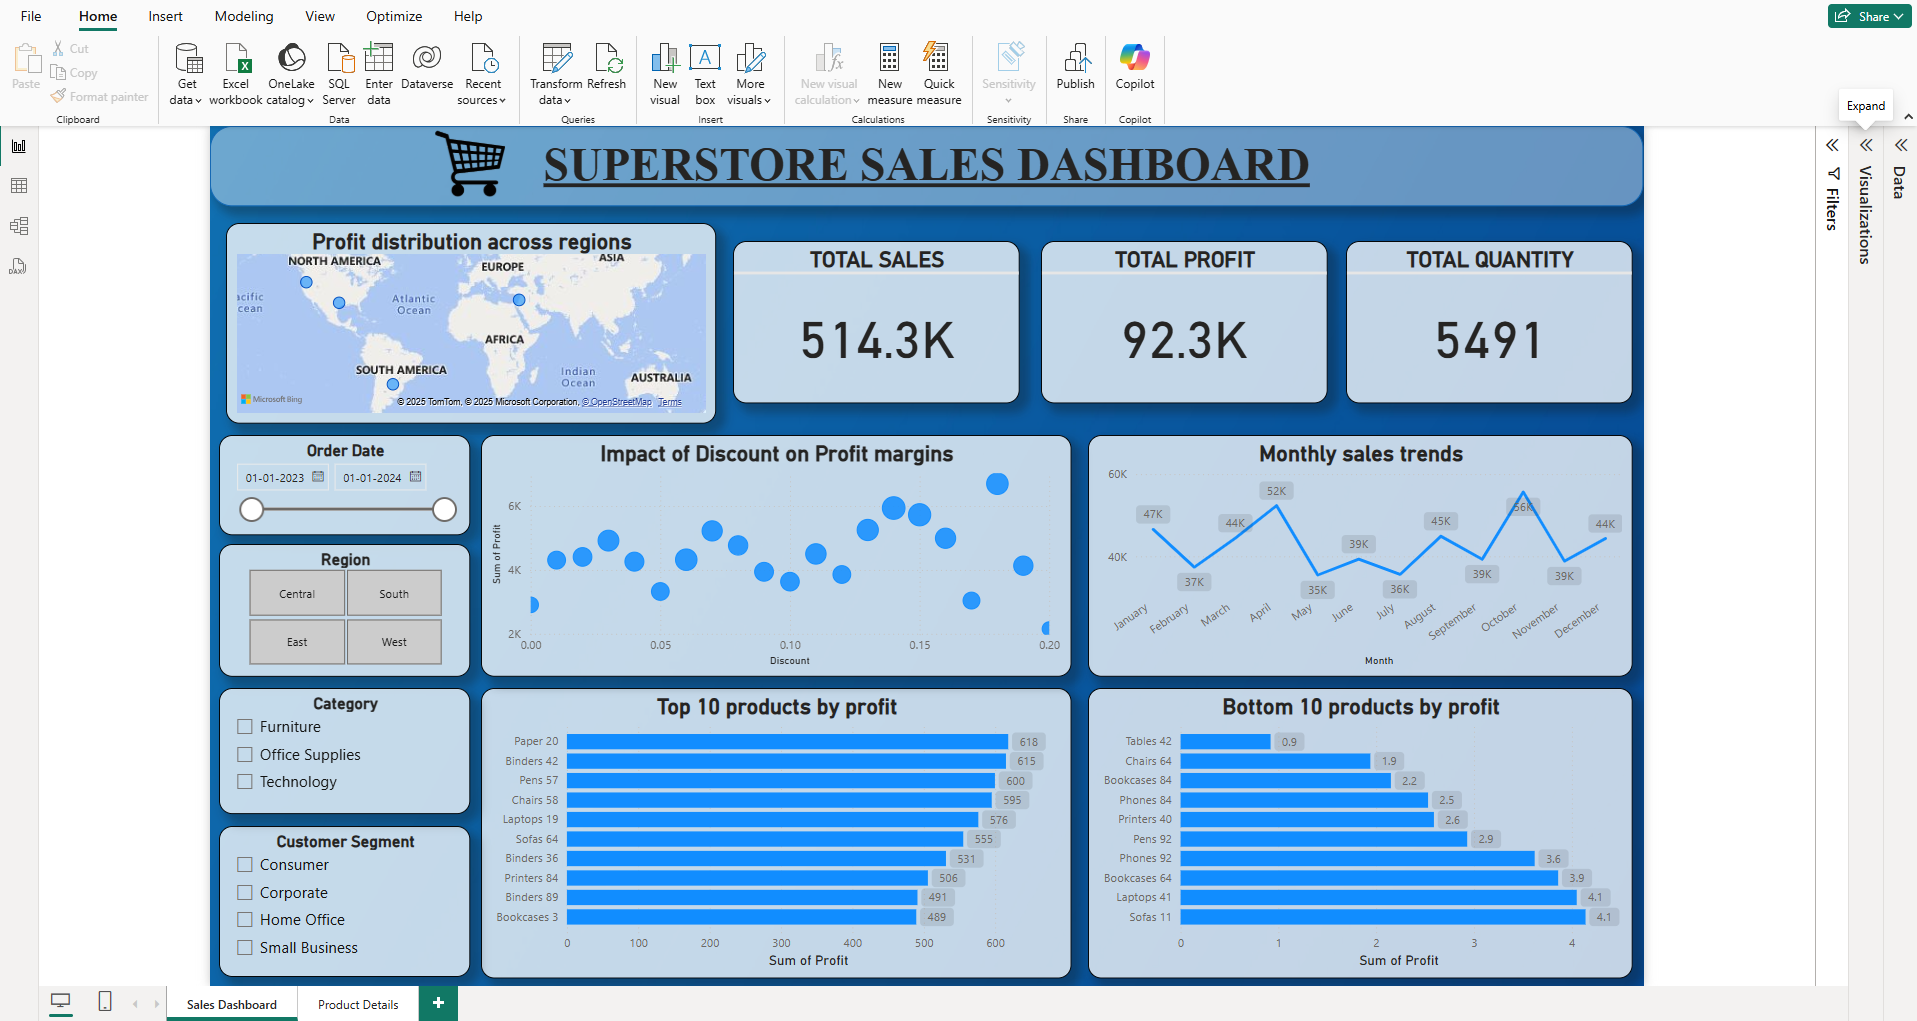

The page's visual inventory and layout, read from the dashboard file:
{"tool":"powerbi","page":{"name":"Sales Dashboard","canvas":[1500,900],"ordinal":0},"visuals":[{"type":"card","title":"TOTAL SALES","fields":{"Values":["Sum(Superstore Sales.Sales Amount)"]},"box":[547.1,120.8,299.8,169.8],"z":0},{"type":"card","title":"TOTAL PROFIT ","fields":{"Values":["Sum(Superstore Sales.Profit)"]},"box":[869.7,120.8,299.8,169.8],"z":1000},{"type":"card","title":"TOTAL QUANTITY","fields":{"Values":["Sum(Superstore Sales.Quantity)"]},"box":[1188.8,120.8,299.8,169.8],"z":2000},{"type":"lineChart","title":"Monthly sales trends","fields":{"Category":["Superstore Sales.Order Date.Variation.Date Hierarchy.Month"],"Y":["Sum(Superstore Sales.Sales Amount)"]},"box":[918.7,323.7,569.9,253],"z":3000},{"type":"map","title":"Profit distribution across regions","fields":{"Category":["Superstore Sales.Region"],"Size":["Sum(Superstore Sales.Profit)"]},"box":[17.1,101.4,512.9,209.7],"z":4000},{"type":"clusteredBarChart","title":"Top 10 products by profit","fields":{"Category":["Superstore Sales.Product Name"],"Y":["Sum(Superstore Sales.Profit)"]},"box":[283.8,588.1,617.8,304.3],"z":5000},{"type":"clusteredBarChart","title":"Bottom 10 products by profit","fields":{"Category":["Superstore Sales.Product Name"],"Y":["Sum(Superstore Sales.Profit)"]},"box":[918.7,588.1,569.9,304.3],"z":6000},{"type":"slicer","title":"Order Date","fields":{"Values":["Superstore Sales.Order Date"]},"box":[9.1,323.7,263.3,104.9],"z":7000},{"type":"slicer","title":"Region","fields":{"Values":["Superstore Sales.Region"]},"box":[9.1,437.7,263.3,139.1],"z":8000},{"type":"slicer","title":"Customer Segment","fields":{"Values":["Superstore Sales.Customer Segment"]},"box":[9.1,732.9,263.3,158.4],"z":9000},{"type":"slicer","title":"Category","fields":{"Values":["Superstore Sales.Category"]},"box":[9.1,588.1,263.3,132.2],"z":10000},{"type":"scatterChart","title":"Impact of Discount on Profit margins","fields":{"X":["Superstore Sales.Discount"],"Y":["Sum(Superstore Sales.Profit)"],"Size":["Sum(Superstore Sales.Quantity)"]},"box":[283.8,323.7,617.8,253],"z":11000},{"type":"textbox","box":[0,0,1500,84.3],"z":12000},{"type":"image","box":[197.2,0,150.5,84.3],"z":13000}]}

Visuals, with their boxes on the page's 1500x900 design canvas (x1, y1, x2, y2). These are canvas units, not pixel positions in the 1917x1021 screenshot, which may show the page scaled, cropped or inside an application window:
"TOTAL SALES" card: (x1=547, y1=121, x2=847, y2=291)
"TOTAL PROFIT " card: (x1=870, y1=121, x2=1170, y2=291)
"TOTAL QUANTITY" card: (x1=1189, y1=121, x2=1489, y2=291)
"Monthly sales trends" lineChart: (x1=919, y1=324, x2=1489, y2=577)
"Profit distribution across regions" map: (x1=17, y1=101, x2=530, y2=311)
"Top 10 products by profit" clusteredBarChart: (x1=284, y1=588, x2=902, y2=892)
"Bottom 10 products by profit" clusteredBarChart: (x1=919, y1=588, x2=1489, y2=892)
"Order Date" slicer: (x1=9, y1=324, x2=272, y2=429)
"Region" slicer: (x1=9, y1=438, x2=272, y2=577)
"Customer Segment" slicer: (x1=9, y1=733, x2=272, y2=891)
"Category" slicer: (x1=9, y1=588, x2=272, y2=720)
"Impact of Discount on Profit margins" scatterChart: (x1=284, y1=324, x2=902, y2=577)
textbox: (x1=0, y1=0, x2=1500, y2=84)
image: (x1=197, y1=0, x2=348, y2=84)
